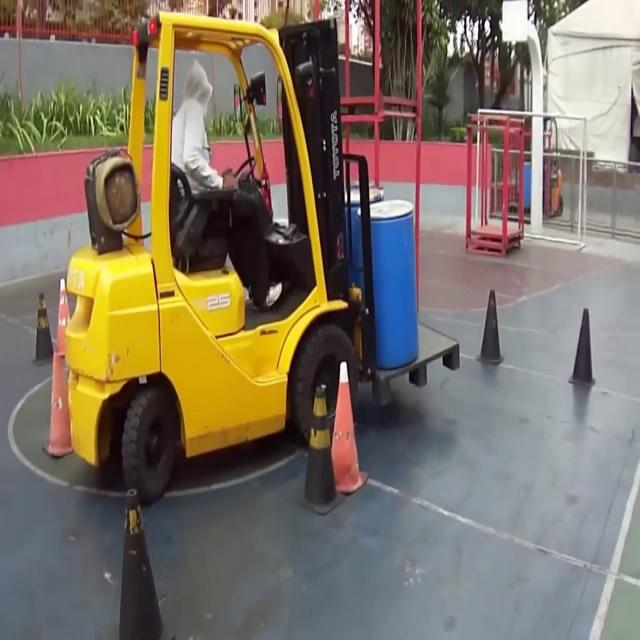Chariot elevateur: (50, 4, 386, 516)
